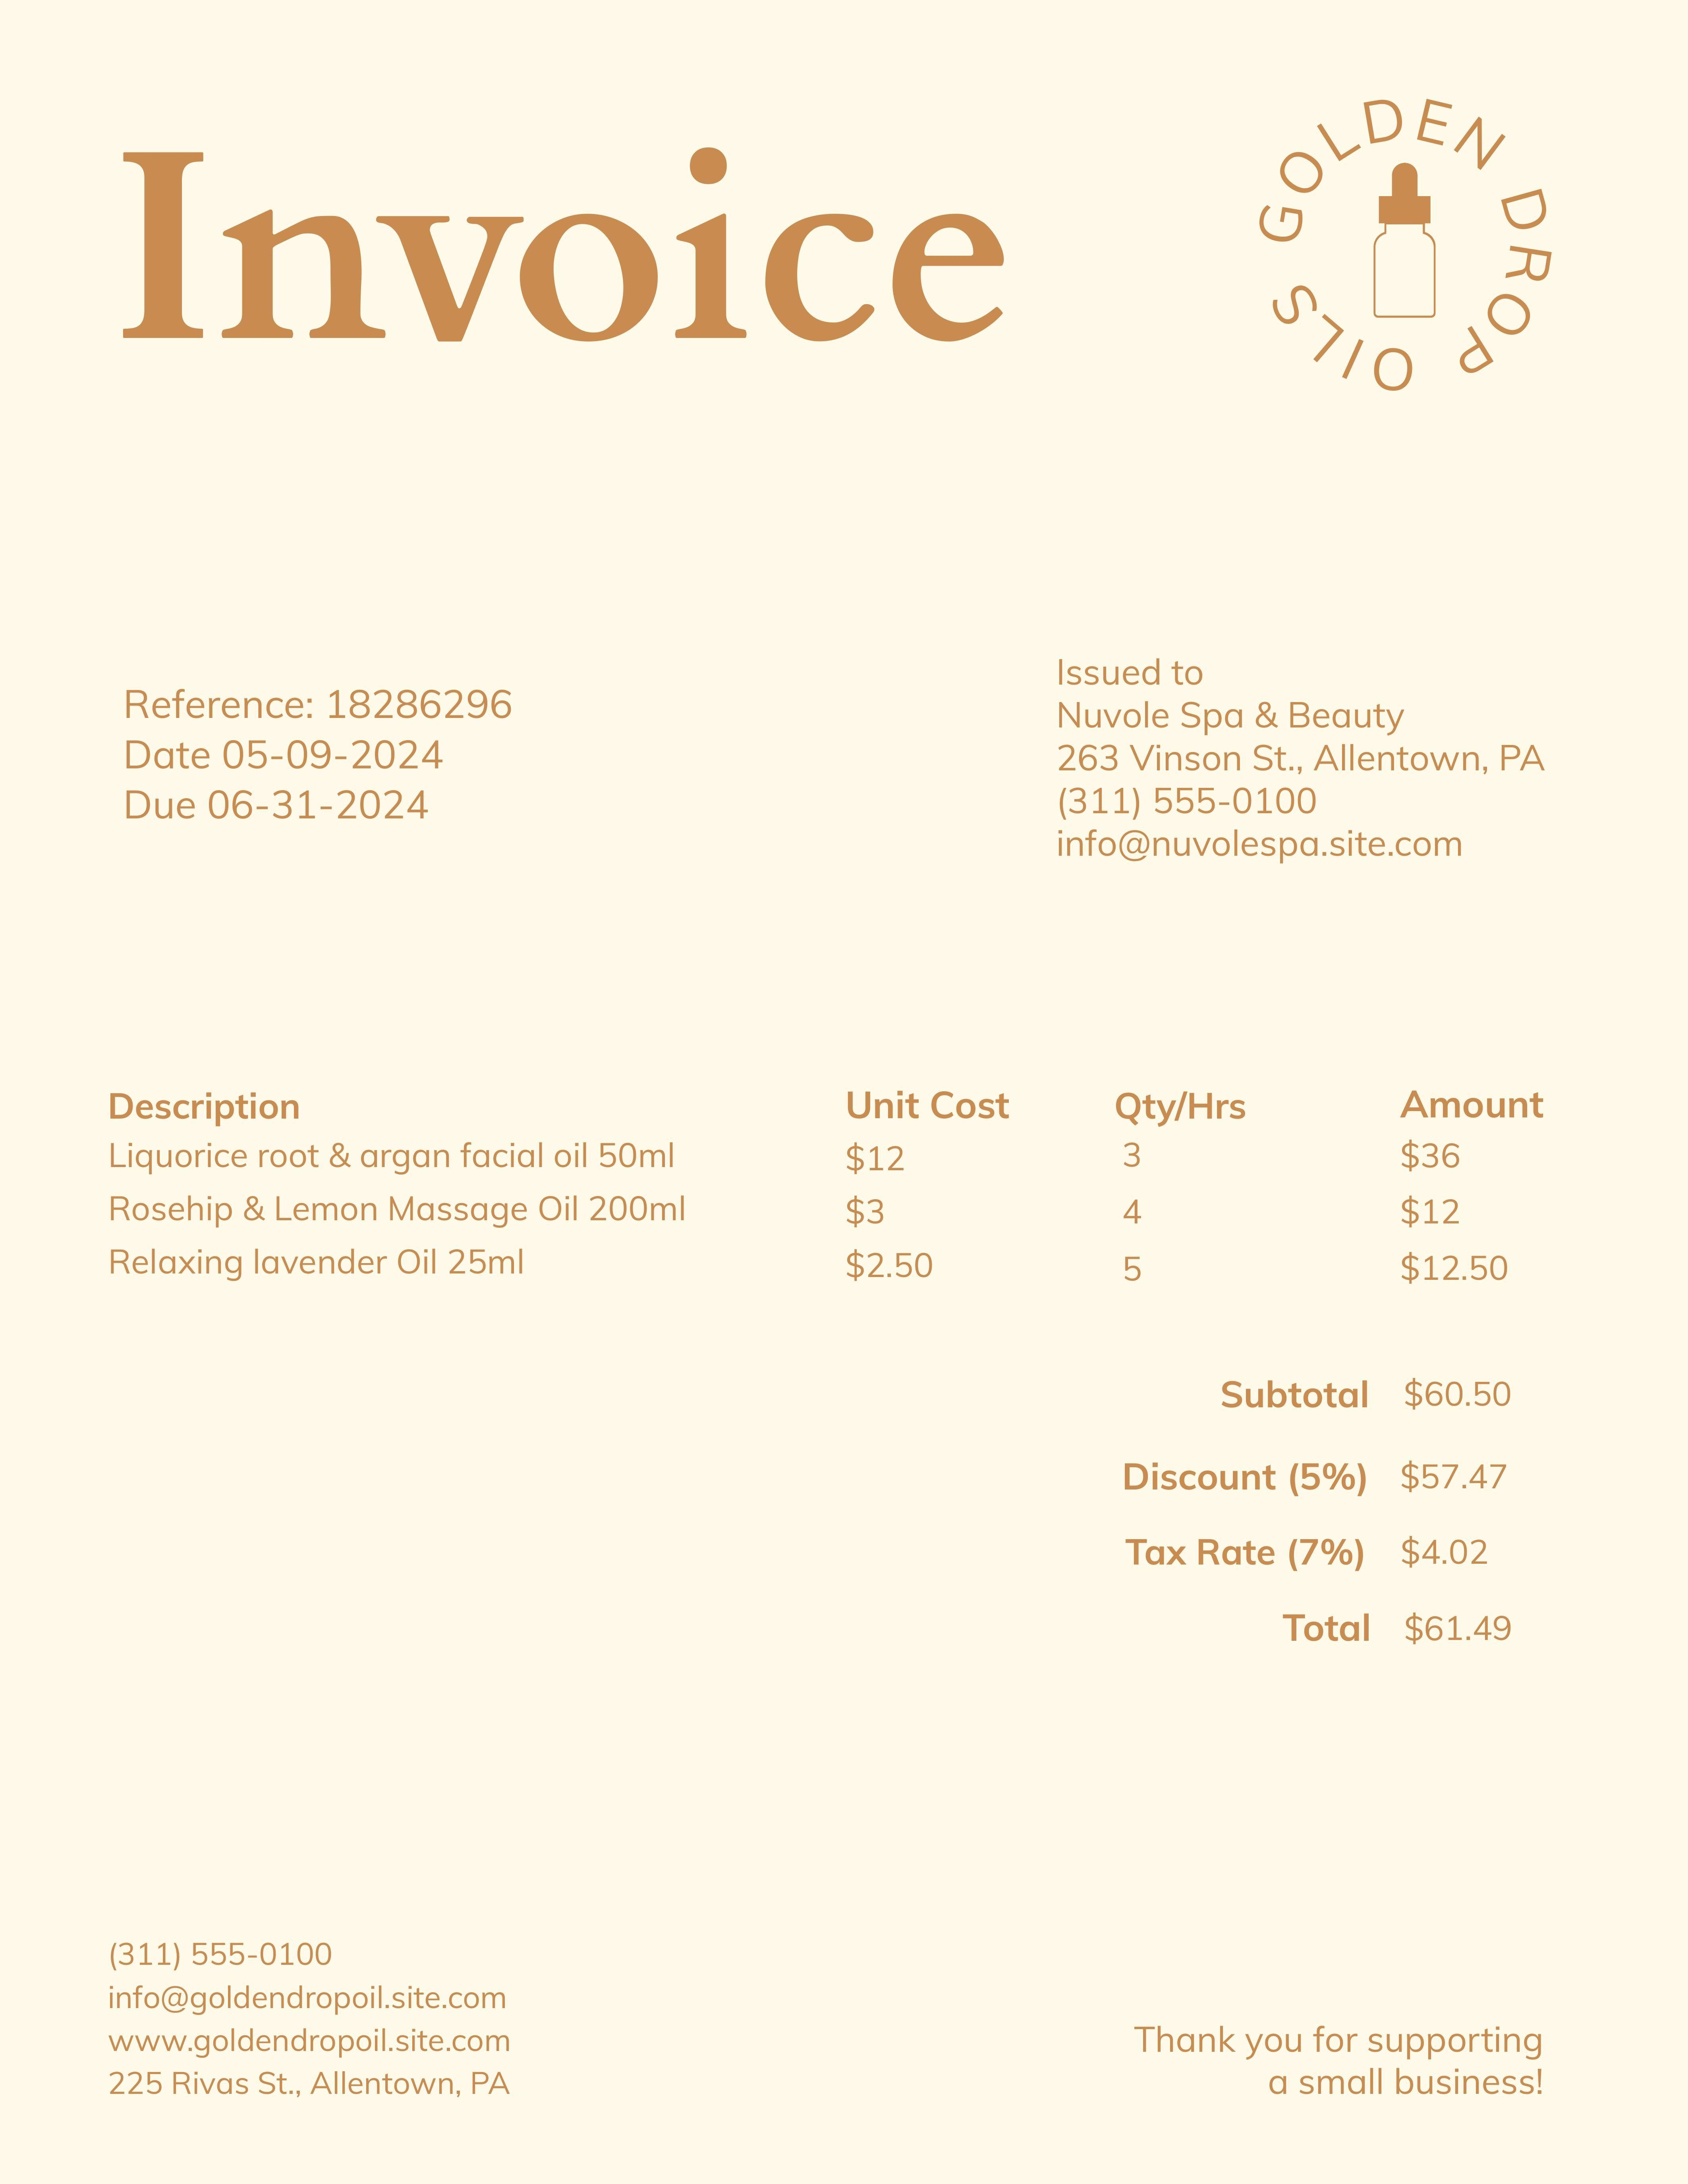ROI: (80, 1075, 1571, 1311), (1093, 1364, 1567, 1655), (1036, 648, 1563, 872), (92, 1921, 544, 2124), (104, 667, 531, 853)
